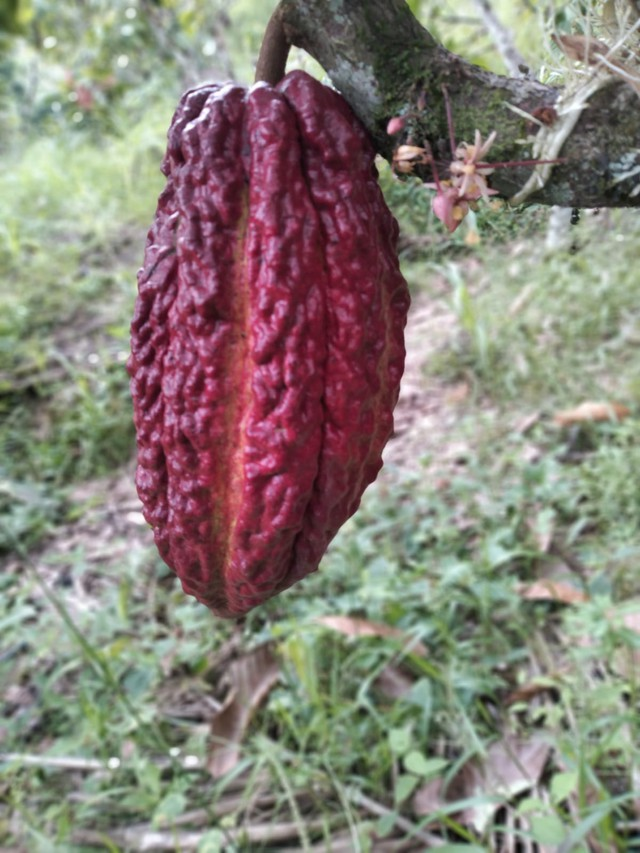Health: (111, 63, 425, 632)
